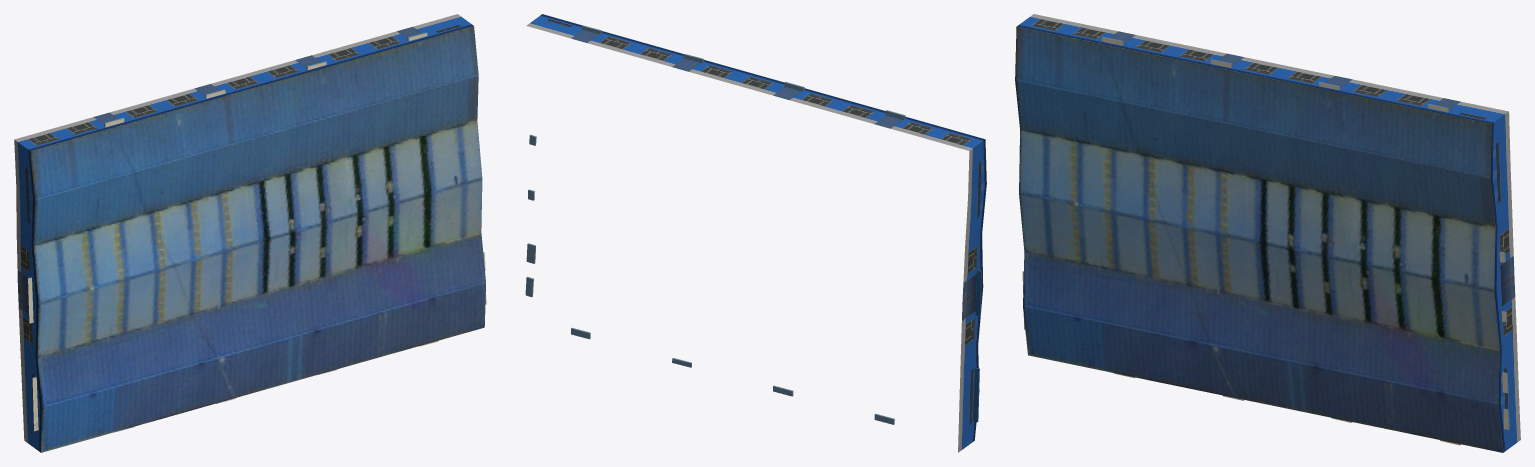
The picture shows the model from 3 angles, left to right: view 1: azimuth 30°, elevation 25°; view 2: azimuth 150°, elevation 25°; view 3: azimuth 330°, elevation 25°; orthographic projection. The views are drawn at different scales.
Visible parts, largest first — view 1: Group_MatrixTransform_i96150_Geometry_8, Group_MatrixTransform_i96150_Geometry_7, Group_MatrixTransform_i96150_Geometry_3, Group_MatrixTransform_i96150_Geometry_6, Group_MatrixTransform_i96150_Geometry_1, Group_MatrixTransform_i96150_Geometry_9, Group_MatrixTransform_i96150_Geometry_2, Group_MatrixTransform_i96150_Geometry_0; view 2: Group_MatrixTransform_i96150_Geometry_7, Group_MatrixTransform_i96150_Geometry_3, Group_MatrixTransform_i96150_Geometry_5, Group_MatrixTransform_i96150_Geometry_6, Group_MatrixTransform_i96150_Geometry_1, Group_MatrixTransform_i96150_Geometry_2, Group_MatrixTransform_i96150_Geometry_0, Group_MatrixTransform_i96150_Geometry_4; view 3: Group_MatrixTransform_i96150_Geometry_8, Group_MatrixTransform_i96150_Geometry_7, Group_MatrixTransform_i96150_Geometry_3, Group_MatrixTransform_i96150_Geometry_1, Group_MatrixTransform_i96150_Geometry_6, Group_MatrixTransform_i96150_Geometry_2, Group_MatrixTransform_i96150_Geometry_9, Group_MatrixTransform_i96150_Geometry_0.
Boxes of the visible parts, x1,y1,x2,y2 form: Group_MatrixTransform_i96150_Geometry_8: (30, 26, 485, 452); Group_MatrixTransform_i96150_Geometry_7: (14, 32, 410, 151); Group_MatrixTransform_i96150_Geometry_3: (14, 140, 42, 452); Group_MatrixTransform_i96150_Geometry_6: (91, 26, 430, 129); Group_MatrixTransform_i96150_Geometry_1: (16, 234, 38, 303); Group_MatrixTransform_i96150_Geometry_9: (28, 33, 486, 432); Group_MatrixTransform_i96150_Geometry_2: (18, 289, 38, 357); Group_MatrixTransform_i96150_Geometry_0: (415, 14, 473, 37); Group_MatrixTransform_i96150_Geometry_7: (589, 32, 985, 150); Group_MatrixTransform_i96150_Geometry_3: (958, 139, 986, 452); Group_MatrixTransform_i96150_Geometry_5: (525, 25, 905, 424); Group_MatrixTransform_i96150_Geometry_6: (569, 29, 907, 128); Group_MatrixTransform_i96150_Geometry_1: (962, 234, 983, 302); Group_MatrixTransform_i96150_Geometry_2: (960, 288, 982, 358); Group_MatrixTransform_i96150_Geometry_0: (526, 14, 582, 37); Group_MatrixTransform_i96150_Geometry_4: (973, 270, 981, 422); Group_MatrixTransform_i96150_Geometry_8: (1015, 26, 1502, 452); Group_MatrixTransform_i96150_Geometry_7: (1017, 14, 1441, 110); Group_MatrixTransform_i96150_Geometry_3: (1490, 112, 1520, 452); Group_MatrixTransform_i96150_Geometry_1: (1494, 276, 1516, 348); Group_MatrixTransform_i96150_Geometry_6: (1099, 31, 1462, 114); Group_MatrixTransform_i96150_Geometry_2: (1494, 215, 1514, 290); Group_MatrixTransform_i96150_Geometry_9: (1022, 37, 1508, 445); Group_MatrixTransform_i96150_Geometry_0: (1446, 102, 1508, 123).
Size of the model in its own units: 84.1 by 56.72 by 6.62.
10 materials, 10 textured.
